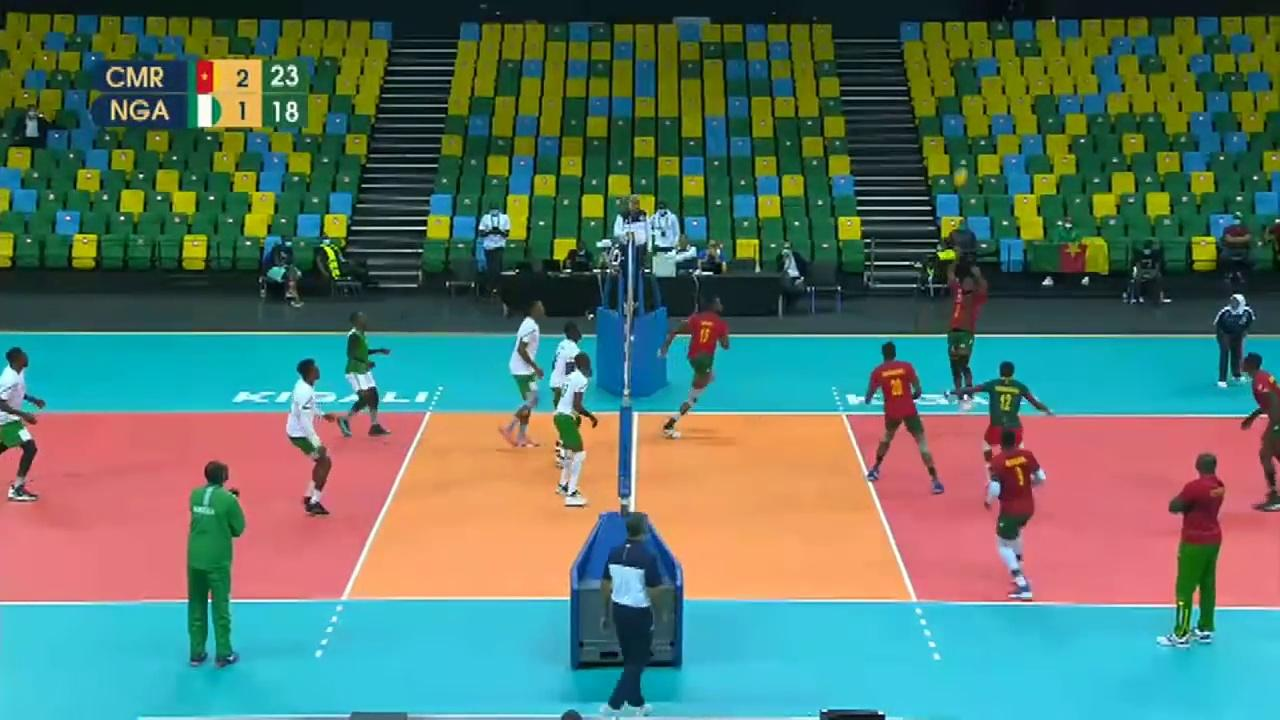player: (850, 338, 951, 497), (966, 353, 1056, 491), (280, 351, 346, 522), (664, 294, 729, 449), (983, 431, 1045, 593), (938, 251, 993, 404), (554, 345, 597, 513), (1, 352, 48, 497), (1240, 348, 1280, 515), (502, 303, 547, 448), (552, 319, 588, 469), (346, 312, 387, 436)
refree: (599, 506, 662, 719), (1213, 292, 1256, 388), (618, 196, 654, 305)
